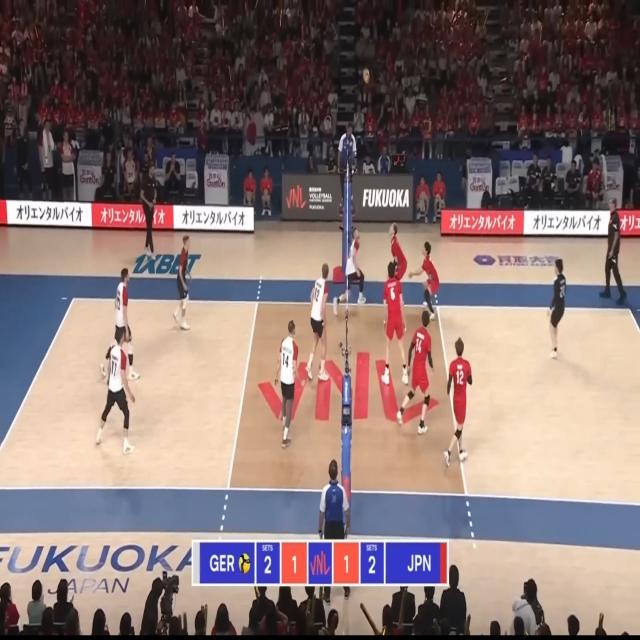ball: (364, 69, 369, 82)
